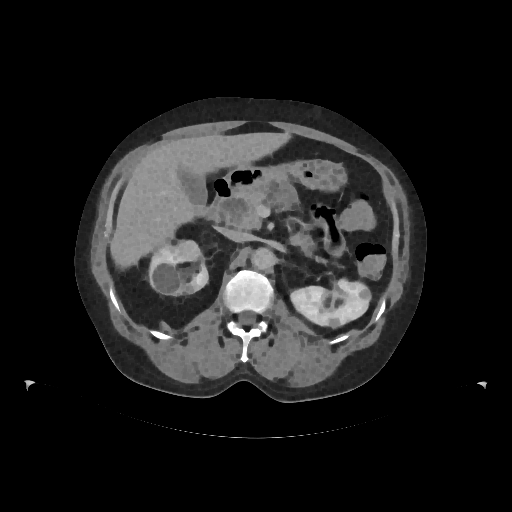Lesion: (151, 264, 183, 295)
